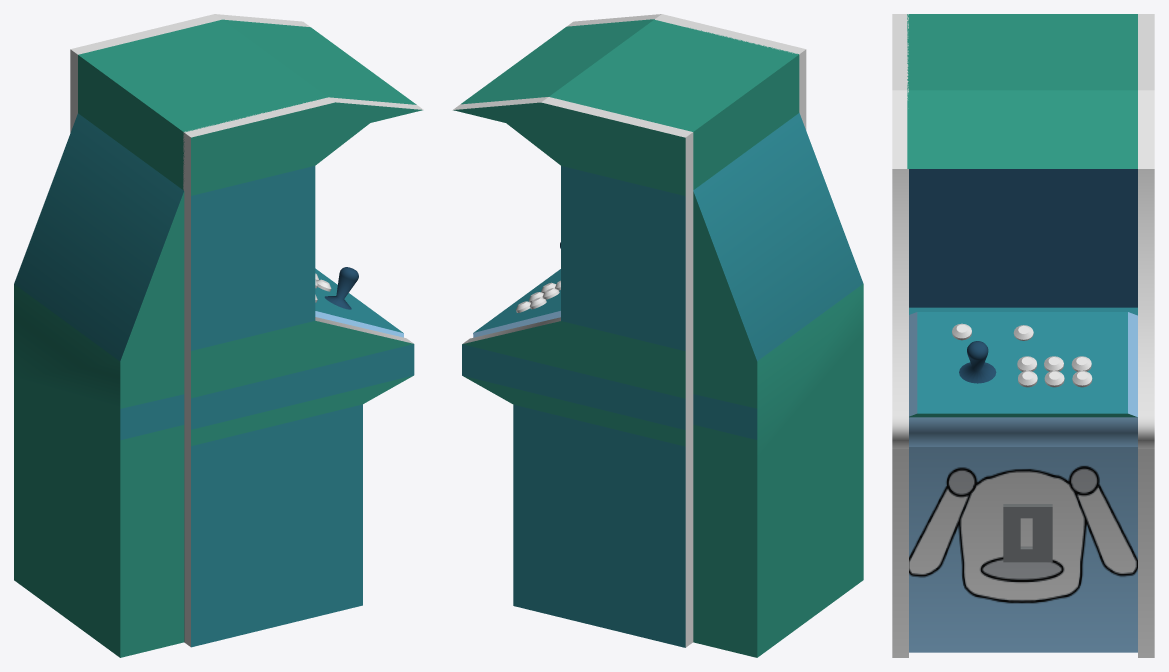
The model's file is Arcade machine 1.fbx.
The picture shows the model from 3 angles, left to right: view 1: azimuth 30°, elevation 25°; view 2: azimuth 150°, elevation 25°; view 3: azimuth 270°, elevation 25°; orthographic projection. The views are drawn at different scales.
Visible parts, largest first — view 1: pCylinder6; view 2: pCylinder6; view 3: pCylinder6.
Boxes of the visible parts, x1,y1,x2,y2 form: pCylinder6: (14, 14, 423, 657); pCylinder6: (453, 14, 863, 657); pCylinder6: (892, 14, 1154, 657).
Bounding box in the file's own units: 48.89 × 80.24 × 34.46.
1 material, 1 textured.
